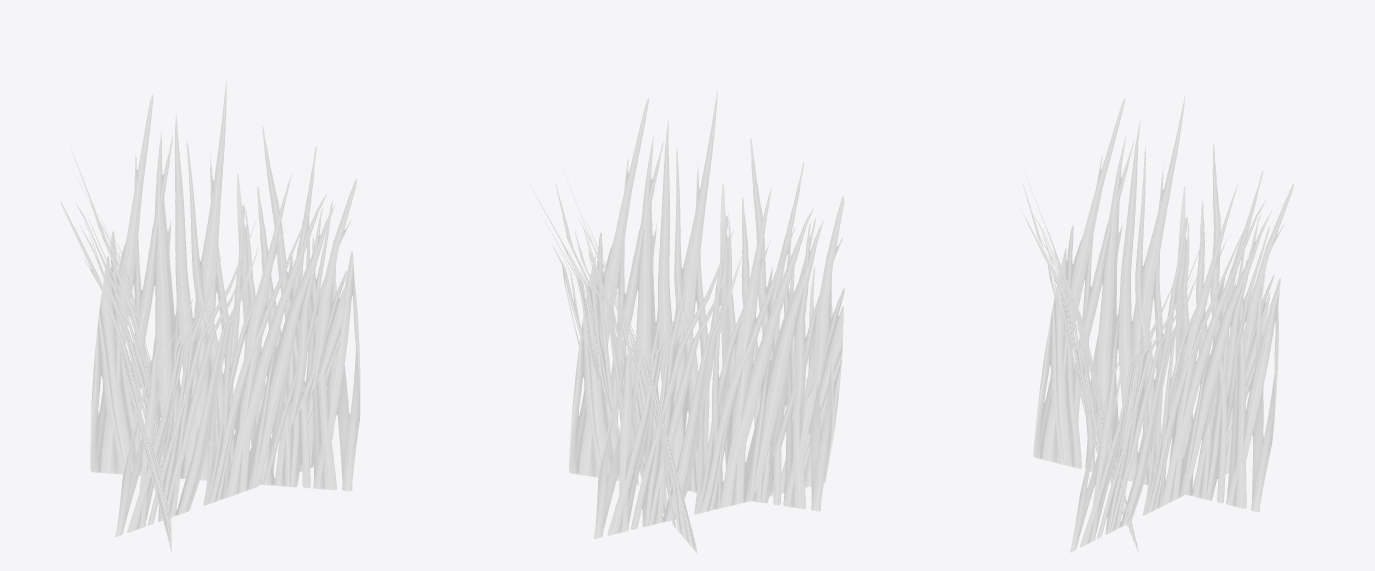
File: Grass_tall.fbx
3 views of the same model, side by side, from view 1: azimuth 30°, elevation 25°; view 2: azimuth 150°, elevation 25°; view 3: azimuth 270°, elevation 25° (orthographic). The views are drawn at different scales.
Parts seen in each view (by area): view 1: Grass_tall; view 2: Grass_tall; view 3: Grass_tall.
Part boxes in pixels (x1,y1,x2,y2): Grass_tall: (60, 81, 360, 552); Grass_tall: (529, 89, 844, 552); Grass_tall: (1009, 93, 1294, 552).
Size of the model in its own units: 133 by 120 by 119.
Materials: 1 (1 with a texture image).
